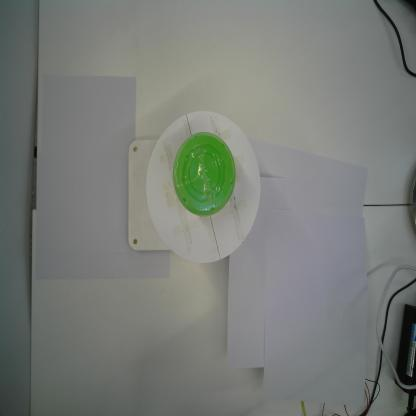Instant Drink: (172, 129, 237, 220)
